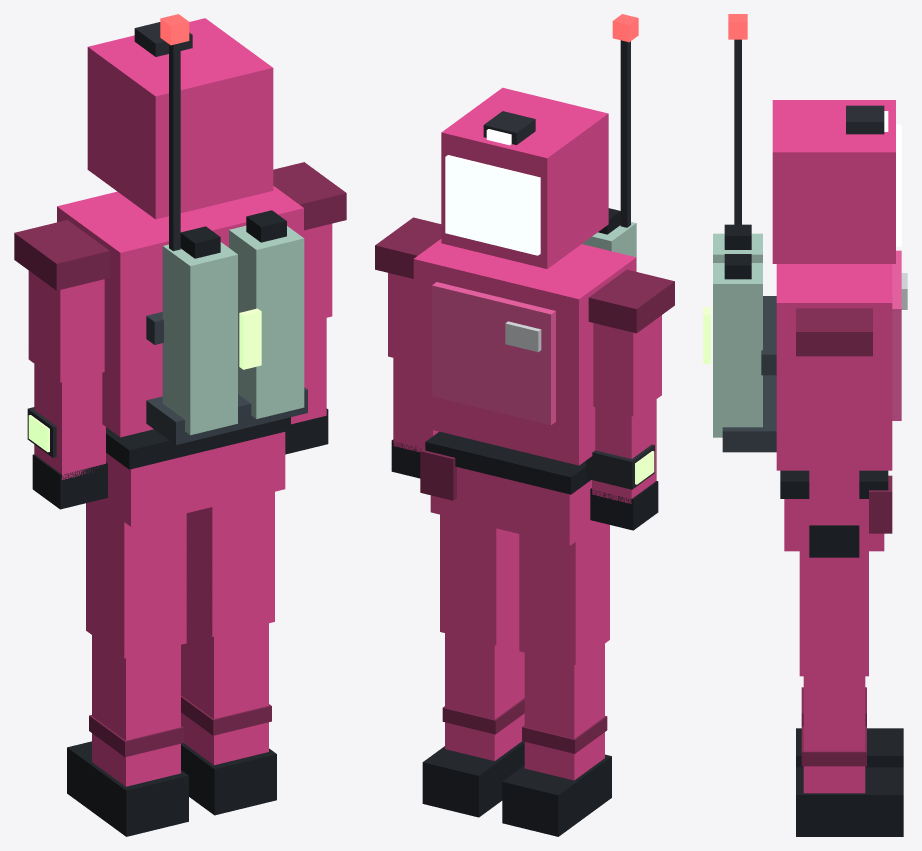
File: bio_tech_hot_pink.glb
3 renders of one model, left to right at view 1: azimuth 30°, elevation 25°; view 2: azimuth 150°, elevation 25°; view 3: azimuth 270°, elevation 25°, orthographic. The views are drawn at different scales.
Parts seen in each view (by area): view 1: Merged6, Merged, Merged7, Merged8, Merged9, _MeshInstance3D_2471, Merged3, _MeshInstance3D_2482, Merged2, Merged5, Merged4; view 2: Merged6, Merged, Merged7, Merged8, Merged9, _MeshInstance3D_2471, Merged3, _MeshInstance3D_2482, Merged2, Merged5, Merged4; view 3: Merged6, Merged, Merged8, Merged5, _MeshInstance3D_2482, Merged4, Merged9, Merged7.
Boxes of the visible parts, bbox=[...] form: Merged6: bbox=[57, 14, 307, 444]; Merged: bbox=[87, 18, 273, 219]; Merged7: bbox=[67, 635, 188, 836]; Merged8: bbox=[181, 618, 276, 815]; Merged9: bbox=[96, 417, 290, 526]; _MeshInstance3D_2471: bbox=[86, 501, 186, 658]; Merged3: bbox=[14, 220, 109, 382]; _MeshInstance3D_2482: bbox=[186, 492, 274, 636]; Merged2: bbox=[27, 364, 107, 509]; Merged5: bbox=[273, 162, 346, 322]; Merged4: bbox=[285, 318, 328, 454]; Merged6: bbox=[413, 14, 638, 465]; Merged: bbox=[441, 87, 608, 268]; Merged7: bbox=[502, 644, 611, 836]; Merged8: bbox=[422, 629, 524, 817]; Merged9: bbox=[420, 431, 600, 545]; _MeshInstance3D_2471: bbox=[519, 523, 609, 664]; Merged3: bbox=[588, 269, 674, 416]; _MeshInstance3D_2482: bbox=[440, 514, 519, 645]; Merged2: bbox=[586, 399, 658, 530]; Merged5: bbox=[375, 217, 441, 362]; Merged4: bbox=[391, 358, 438, 478]; Merged6: bbox=[703, 14, 907, 470]; Merged: bbox=[772, 100, 901, 263]; Merged8: bbox=[796, 676, 903, 836]; Merged5: bbox=[796, 308, 872, 441]; _MeshInstance3D_2482: bbox=[799, 551, 868, 676]; Merged4: bbox=[809, 441, 859, 557]; Merged9: bbox=[780, 470, 892, 551]; Merged7: bbox=[796, 687, 903, 767].
Size of the model in its own units: 0.79 by 2.18 by 0.53.
